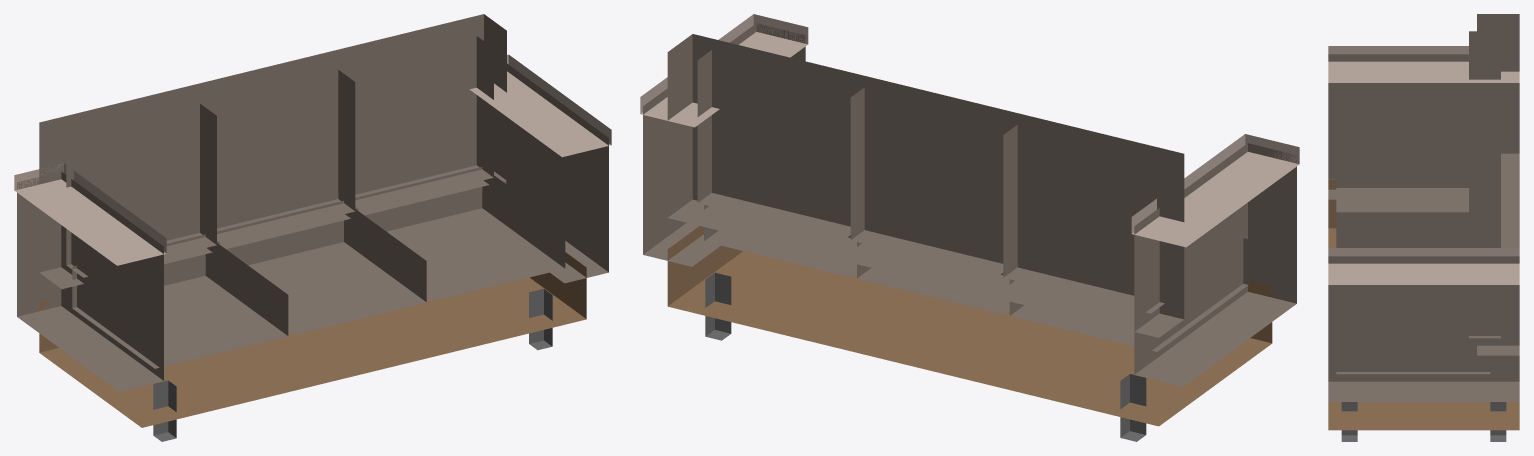
File: kanepe.glb
3 renders of one model, left to right at view 1: azimuth 30°, elevation 25°; view 2: azimuth 150°, elevation 25°; view 3: azimuth 270°, elevation 25°, orthographic. The views are drawn at different scales.
Size of the model in its own units: 2 by 0.99 by 0.72.
